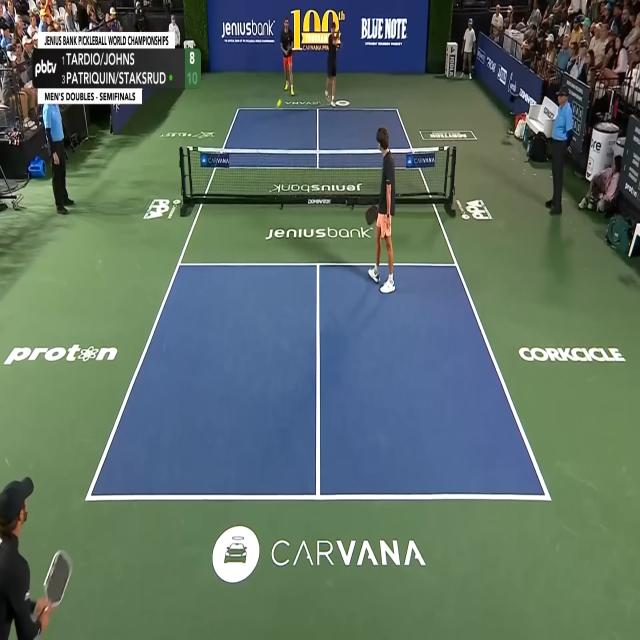ball: (276, 99, 282, 107)
